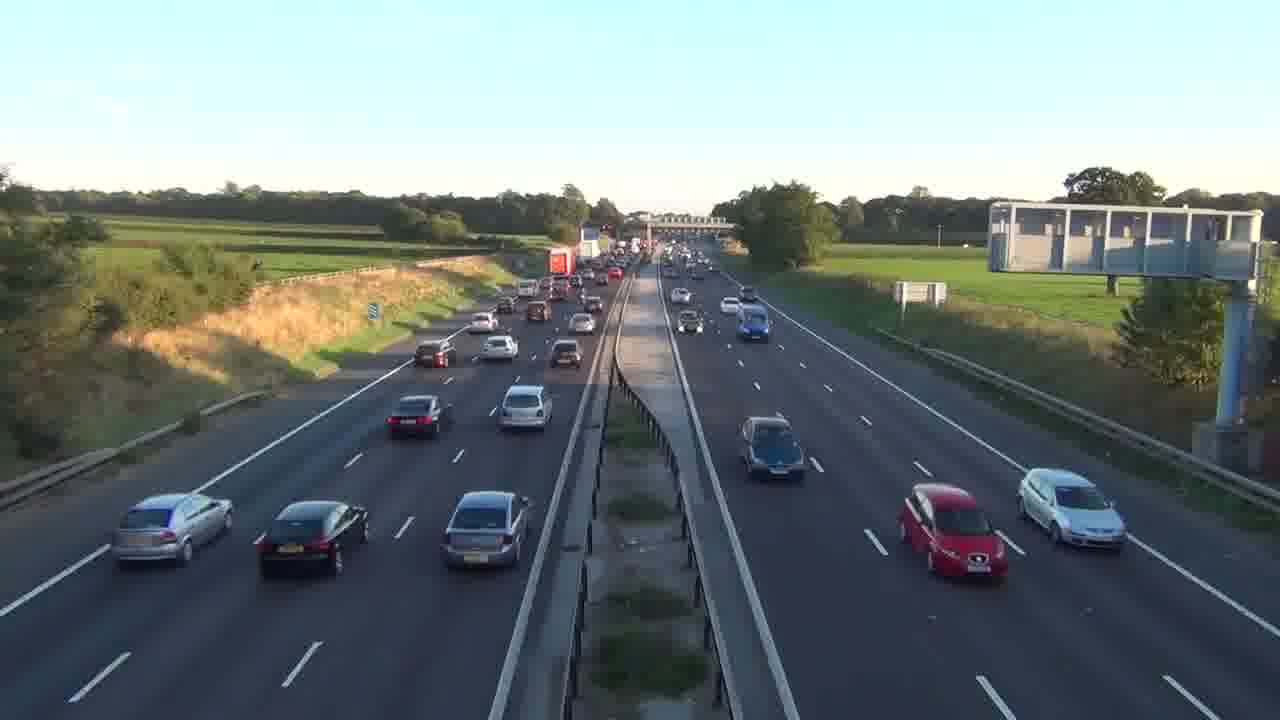car: (251, 498, 370, 579), (1018, 466, 1127, 551), (111, 492, 234, 567), (441, 490, 532, 570), (737, 414, 807, 481), (495, 383, 552, 432), (385, 394, 445, 439), (479, 333, 518, 361), (549, 338, 582, 369), (567, 313, 596, 334)
truck: (896, 481, 1010, 584)
